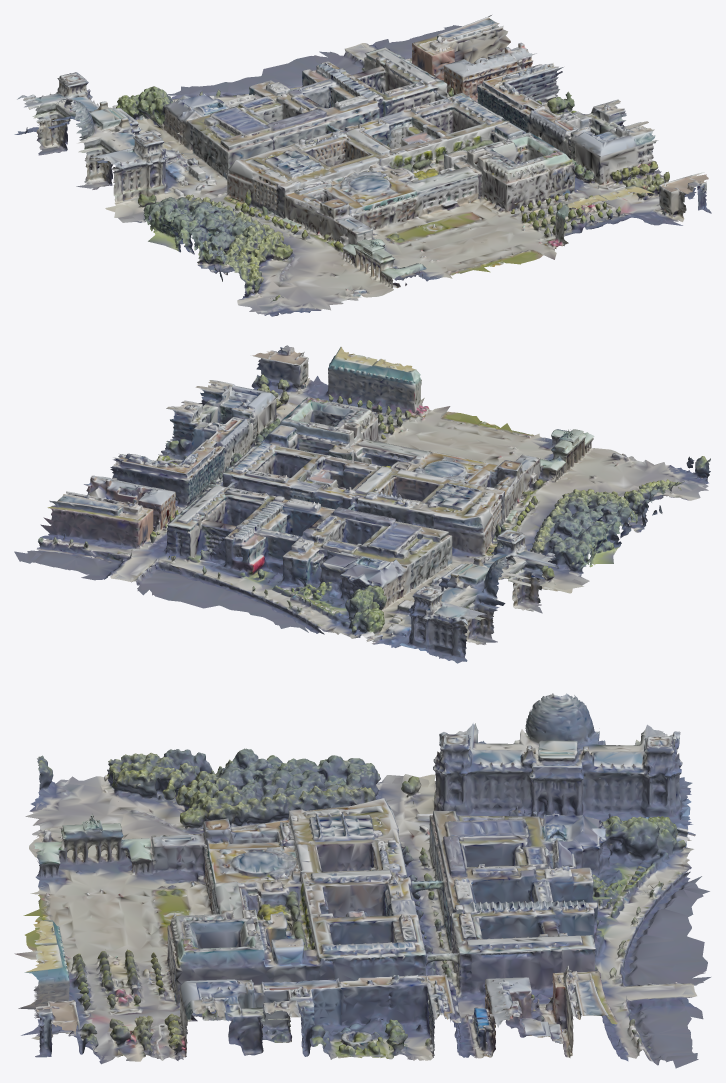
Rendered from surface-detail-3898_58196.glb.
3 renders of one model, top to bottom at view 1: azimuth 30°, elevation 25°; view 2: azimuth 150°, elevation 25°; view 3: azimuth 270°, elevation 25°, orthographic. The views are drawn at different scales.
Visible parts, largest first — view 1: world; view 2: world; view 3: world.
Part boxes in pixels (x1,y1,x2,y2): world: (14, 15, 711, 316); world: (14, 345, 710, 663); world: (14, 693, 710, 1068).
Bounding box in the file's own units: 388 × 63.05 × 390.
